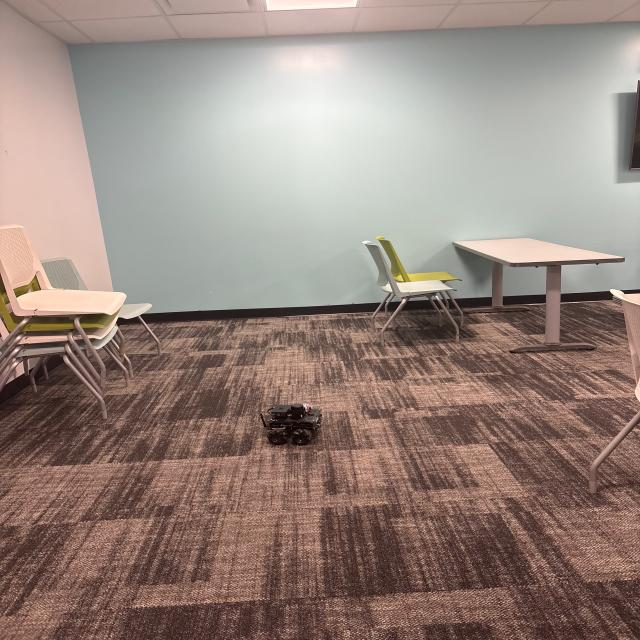ArduinoCar3: (259, 404, 321, 444)
